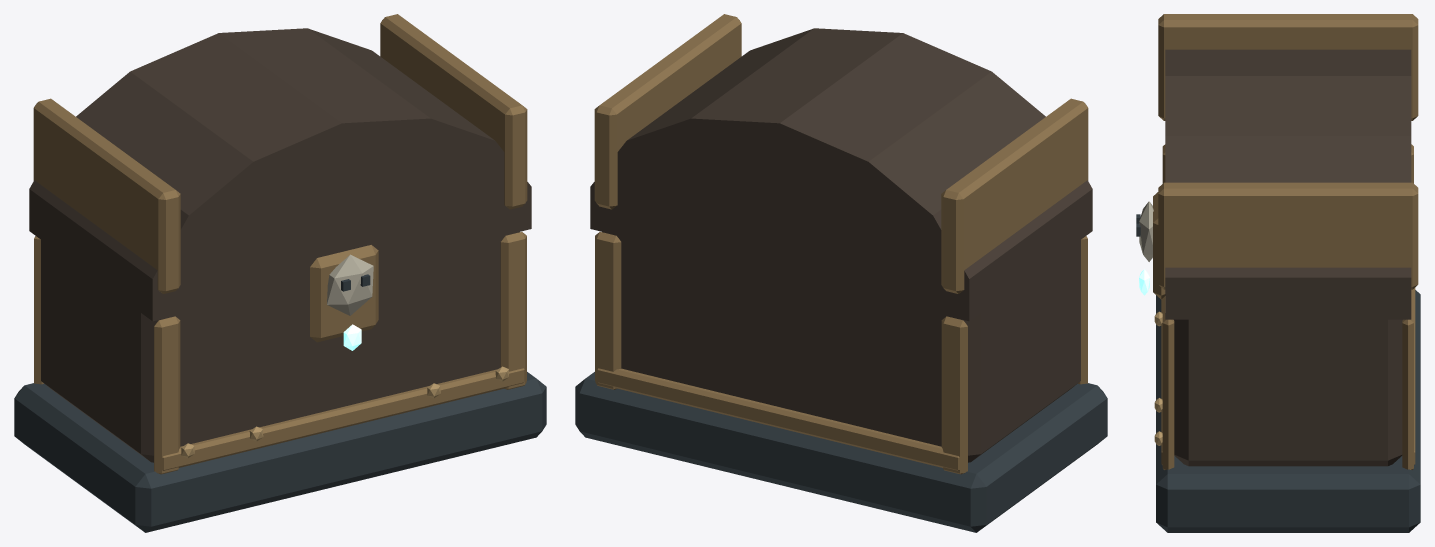
Rendered from warden_reliquary_chest.glb.
The picture shows the model from 3 angles, left to right: view 1: azimuth 30°, elevation 25°; view 2: azimuth 150°, elevation 25°; view 3: azimuth 270°, elevation 25°; orthographic projection.
Visible parts, largest first — view 1: warden_reliquary_chest; view 2: warden_reliquary_chest; view 3: warden_reliquary_chest.
Part boxes in pixels (x1,y1,x2,y2): warden_reliquary_chest: (14,14,546,532); warden_reliquary_chest: (575,14,1107,532); warden_reliquary_chest: (1136,14,1420,532).
Size of the model in its own units: 1.02 by 0.86 by 0.6125.
